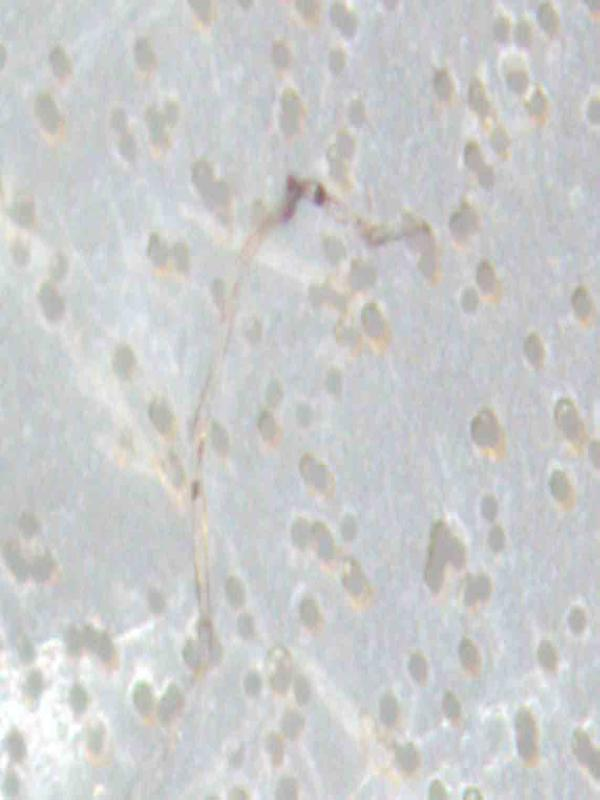microplastic: (2, 1, 598, 797)
